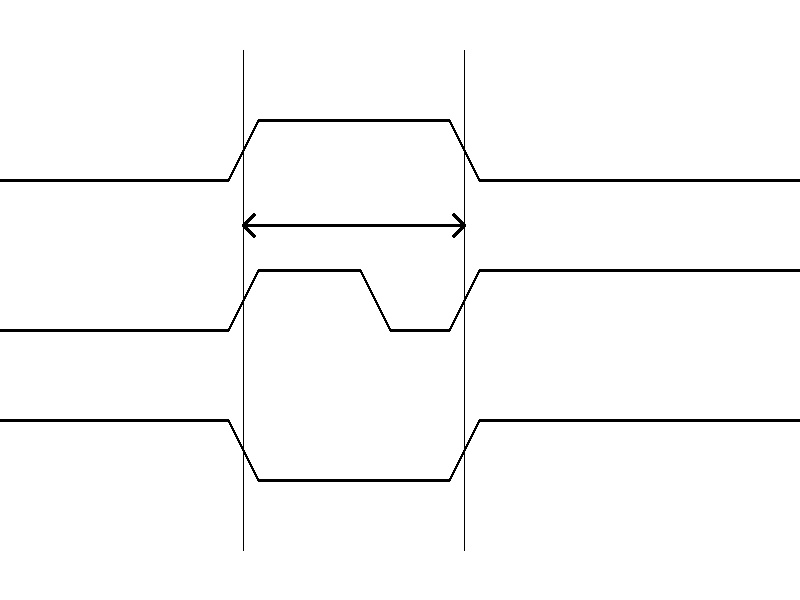double_arrow: (243, 210, 464, 240)
